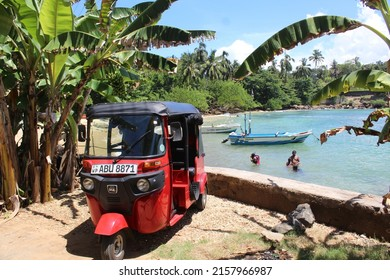threewheel: (77, 101, 208, 261)
